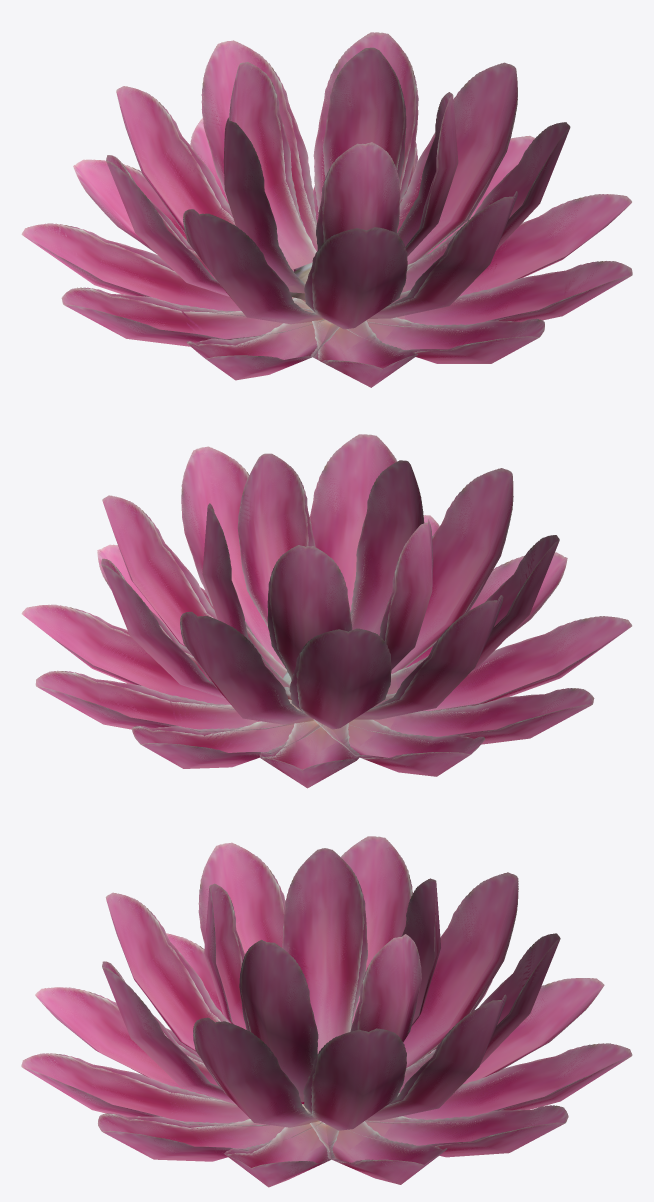
File: Waterlily_Flower_01.FBX
3 renders of one model, top to bottom at view 1: azimuth 30°, elevation 25°; view 2: azimuth 150°, elevation 25°; view 3: azimuth 270°, elevation 25°, orthographic.
Visible parts, largest first — view 1: Nenuphar_Flower_01; view 2: Nenuphar_Flower_01; view 3: Nenuphar_Flower_01.
Boxes of the visible parts, x1=… form: Nenuphar_Flower_01: x1=21, y1=32, x2=632, y2=387; Nenuphar_Flower_01: x1=21, y1=434, x2=632, y2=788; Nenuphar_Flower_01: x1=21, y1=836, x2=632, y2=1187.
Size of the model in its own units: 0.4413 by 0.1832 by 0.4417.
